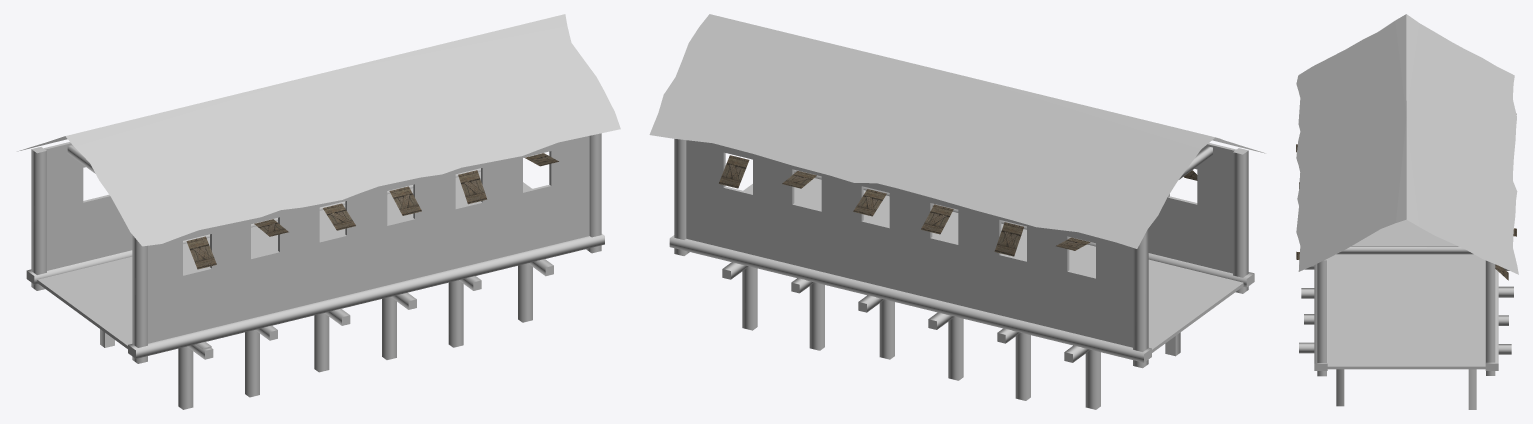
The model's file is Wall_top1_LOD1.fbx.
3 views of the same model, side by side, from view 1: azimuth 30°, elevation 25°; view 2: azimuth 150°, elevation 25°; view 3: azimuth 270°, elevation 25° (orthographic). The views are drawn at different scales.
Parts seen in each view (by area): view 1: polySurface1939; view 2: polySurface1939; view 3: polySurface1939.
Boxes of the visible parts, <box> form: polySurface1939: <box>17,14,620,409</box>; polySurface1939: <box>649,14,1265,409</box>; polySurface1939: <box>1296,14,1518,409</box>.
Size of the model in its own units: 17.35 by 8.75 by 7.88.
